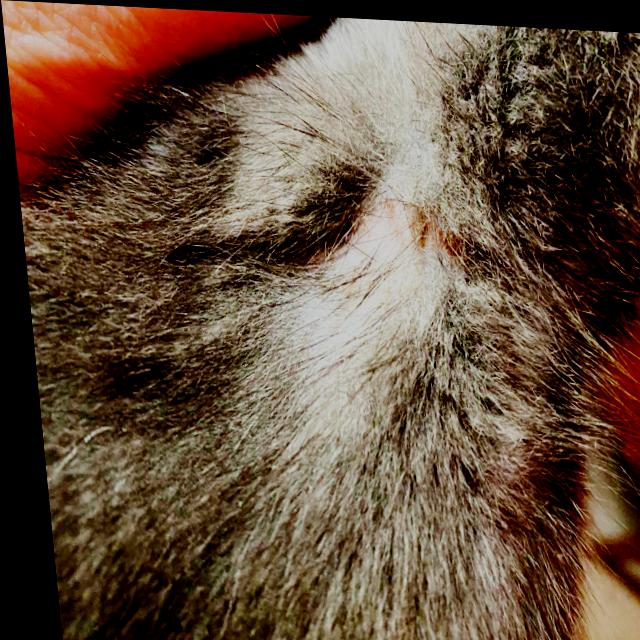hairloss: (319, 181, 436, 348)
